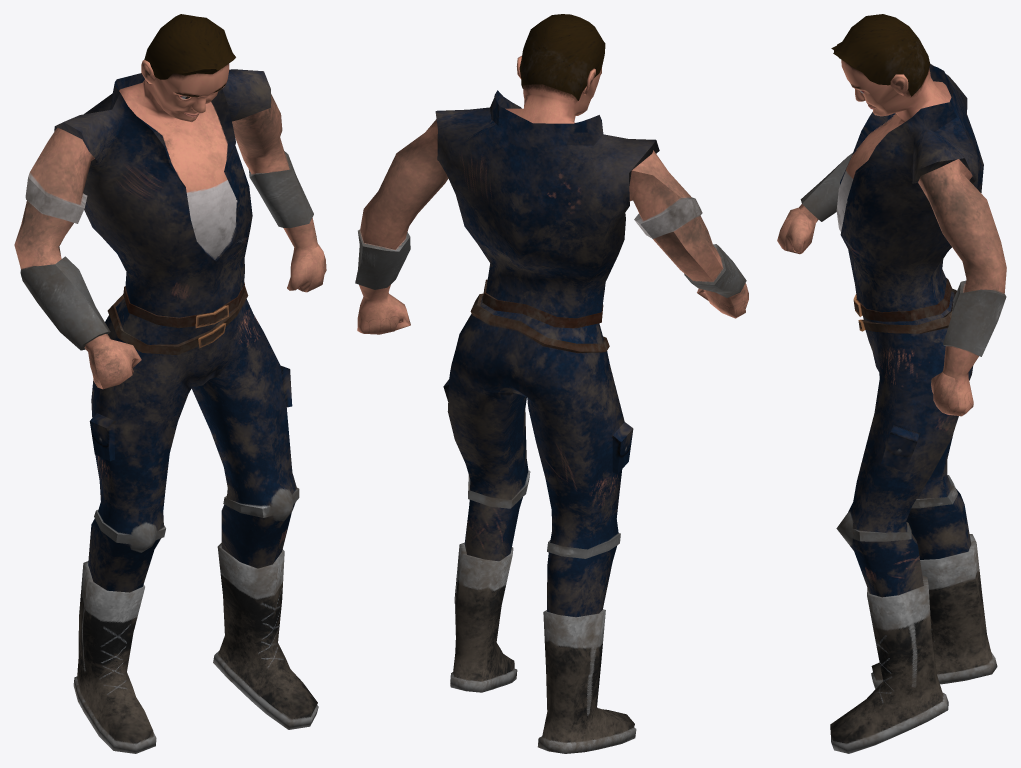
Rendered from Anim_coger_objeto_jugador.0036.obj.
The picture shows the model from 3 angles, left to right: view 1: azimuth 30°, elevation 25°; view 2: azimuth 150°, elevation 25°; view 3: azimuth 270°, elevation 25°; orthographic projection. The views are drawn at different scales.
Visible parts, largest first — view 1: polySurface1; view 2: polySurface1; view 3: polySurface1.
Part boxes in pixels (<box>): polySurface1: <box>14,14,326,753</box>; polySurface1: <box>355,14,748,753</box>; polySurface1: <box>777,14,1006,753</box>.
Size of the model in its own units: 4.76 by 9.63 by 2.9.
